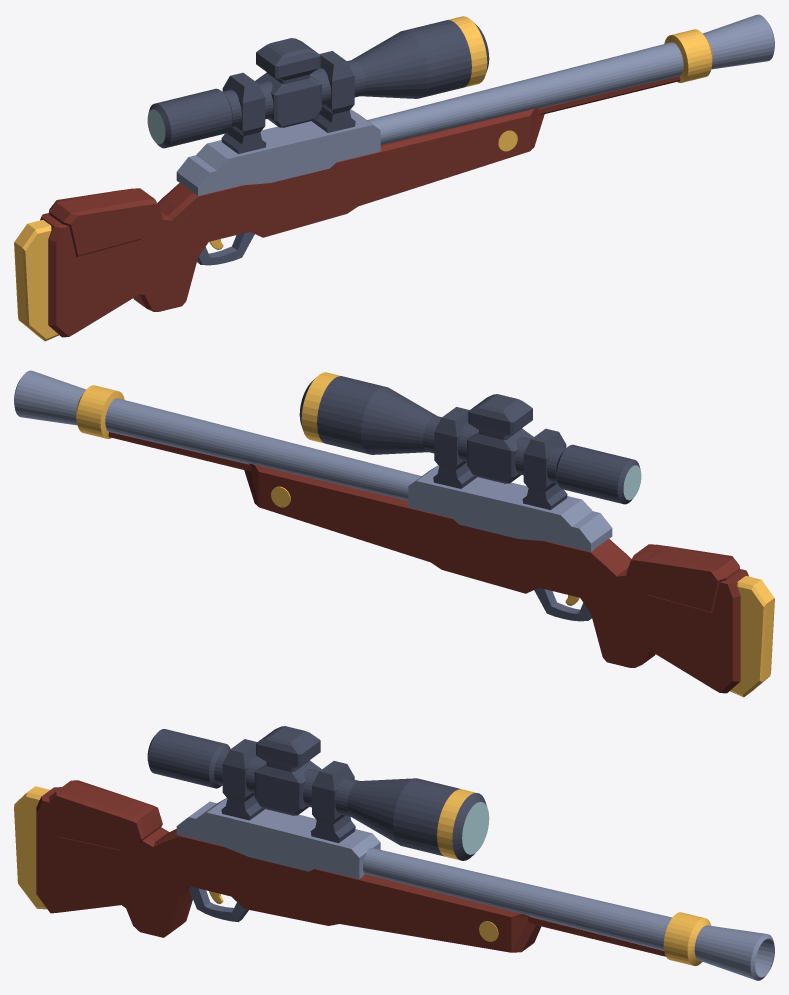
File: Sniper rifle 01.fbx
3 views of the same model, one above another, from view 1: azimuth 30°, elevation 25°; view 2: azimuth 150°, elevation 25°; view 3: azimuth 330°, elevation 25° (orthographic).
Visible parts, largest first — view 1: 瞄准镜; view 2: 瞄准镜; view 3: 瞄准镜.
Part boxes in pixels (x1,y1,x2,y2): 瞄准镜: (14,14,774,341); 瞄准镜: (14,370,774,697); 瞄准镜: (14,726,774,980).
Size of the model in its own units: 118 by 35.21 by 9.6.
